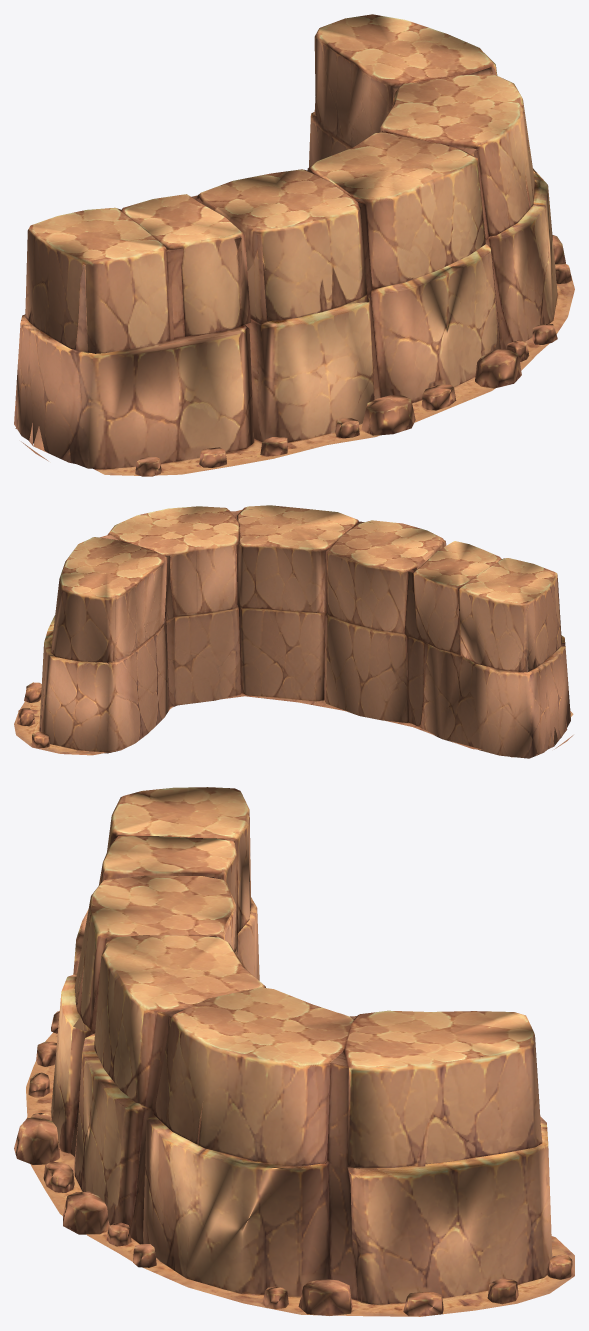
File: Meshy_AI_Sunlit_Sandstone_Barr_0907103631_texture.fbx
3 renders of one model, top to bottom at view 1: azimuth 30°, elevation 25°; view 2: azimuth 150°, elevation 25°; view 3: azimuth 270°, elevation 25°, orthographic. The views are drawn at different scales.
Parts seen in each view (by area): view 1: mesh_node; view 2: mesh_node; view 3: mesh_node.
Part boxes in pixels (x1,y1,x2,y2): mesh_node: (14,14,574,476); mesh_node: (14,505,573,758); mesh_node: (14,787,574,1316).
Bounding box in the file's own units: 1538 × 500 × 1138.
1 material, 1 textured.
